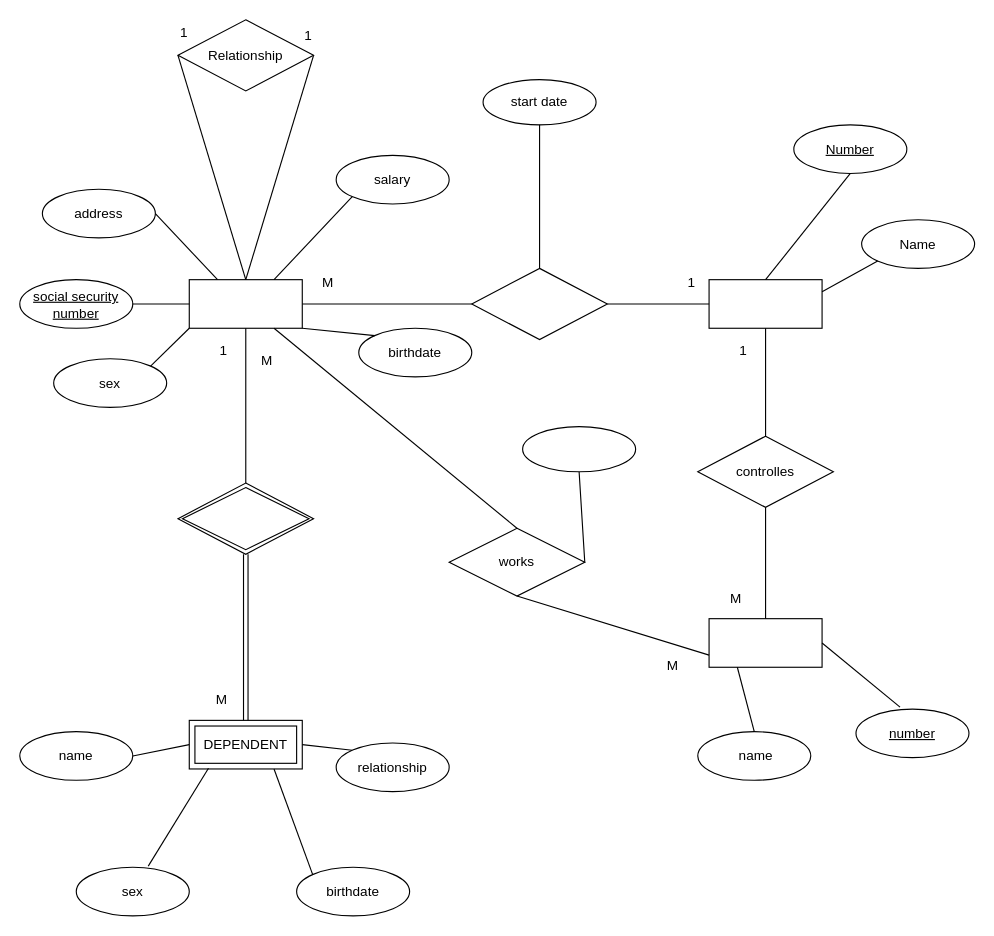
Image size: 994x936. Some labels were removed from this diagram. Here are the shapes that lost their labels. From the top down, the box of each, then its label:
(188, 279, 302, 328): EMPLOYEE
(471, 267, 607, 340): manages
(708, 279, 822, 328): DEPARTMENT
(521, 425, 636, 472): work_hours
(177, 482, 314, 554): has
(708, 618, 822, 667): PROJECT
